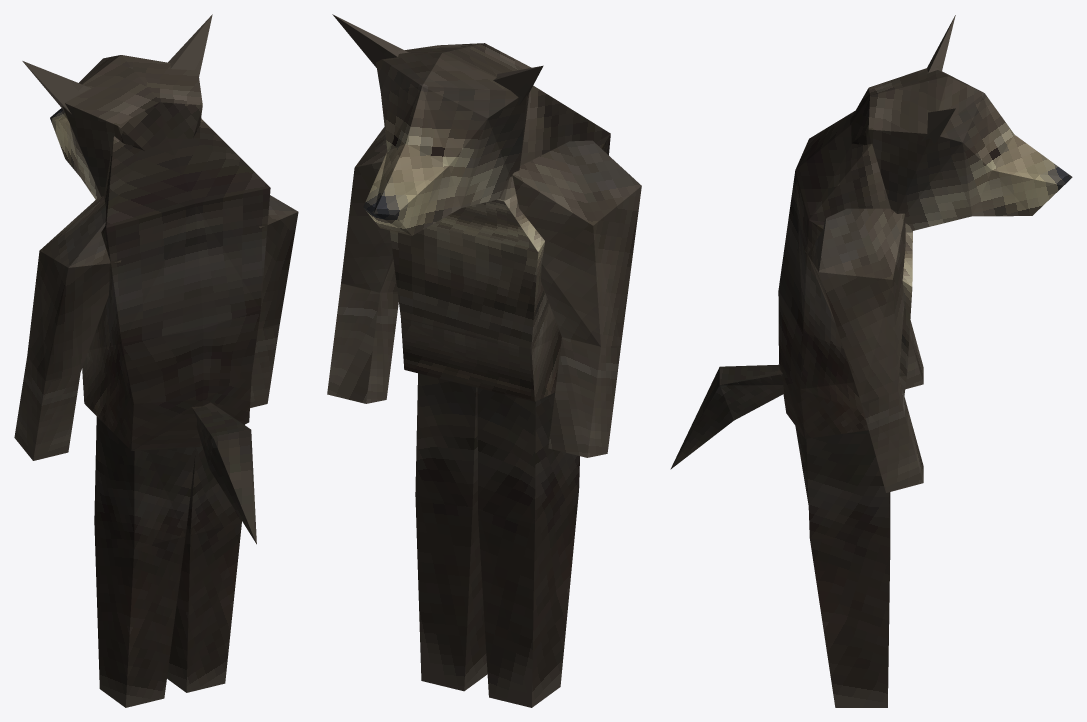
The model's file is Werewolf_Werewolf.glb.
3 views of the same model, side by side, from view 1: azimuth 30°, elevation 25°; view 2: azimuth 150°, elevation 25°; view 3: azimuth 270°, elevation 25° (orthographic). The views are drawn at different scales.
Visible parts, largest first — view 1: Body, Leg1, Hand1, Head, Leg2, Hand2; view 2: Body, Leg1, Head, Hand1, Leg2, Hand2; view 3: Body, Head, Leg2, Hand2, Hand1.
Part boxes in pixels (box(x1,y1,x2,y2)): Body: box(82, 118, 270, 544); Leg1: box(94, 416, 195, 707); Hand1: box(14, 196, 121, 460); Head: box(22, 14, 212, 199); Leg2: box(167, 424, 244, 692); Hand2: box(250, 195, 298, 407); Body: box(390, 85, 610, 401); Leg1: box(477, 388, 579, 707); Head: box(332, 14, 543, 235); Hand1: box(512, 140, 641, 457); Leg2: box(415, 373, 487, 691); Hand2: box(327, 127, 398, 403); Body: box(670, 111, 912, 469); Head: box(850, 15, 1072, 230); Leg2: box(795, 426, 890, 707); Hand2: box(805, 208, 923, 492); Hand1: box(905, 320, 923, 389).
Bounding box in the file's own units: 0.7341 × 1.84 × 1.08.
1 material, 1 textured.
